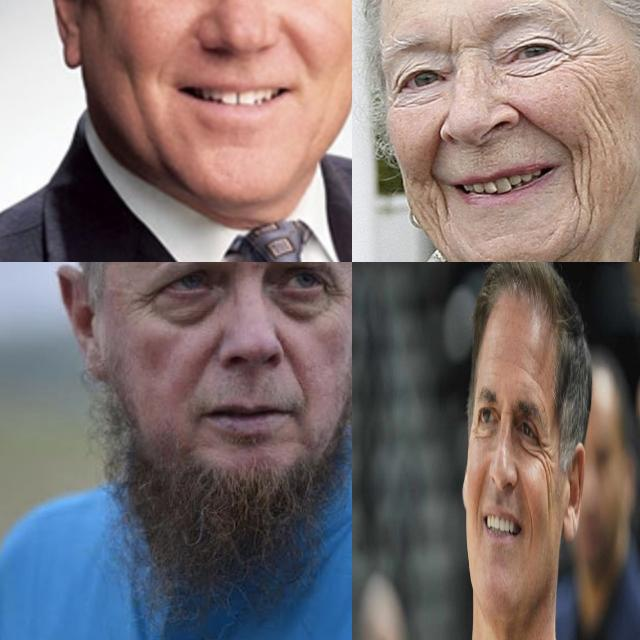crows_feet: (564, 30, 608, 66), (122, 282, 160, 316), (319, 276, 352, 312), (540, 439, 551, 478), (471, 424, 478, 442)
forehead: (520, 365, 543, 390)
frown_line: (444, 28, 476, 58)
gummy_smile: (192, 332, 228, 386), (279, 17, 313, 65), (521, 108, 563, 146), (274, 333, 302, 385), (422, 135, 444, 169), (474, 472, 485, 516), (527, 505, 534, 544)
masseter: (119, 55, 157, 123), (574, 76, 616, 134), (545, 488, 553, 526)
sad_smile: (568, 146, 598, 208), (428, 178, 458, 222)
